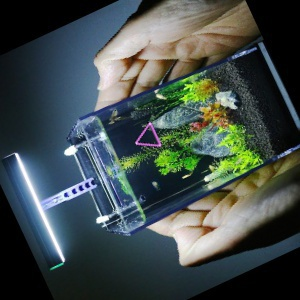triangle: (134, 121, 164, 153)
